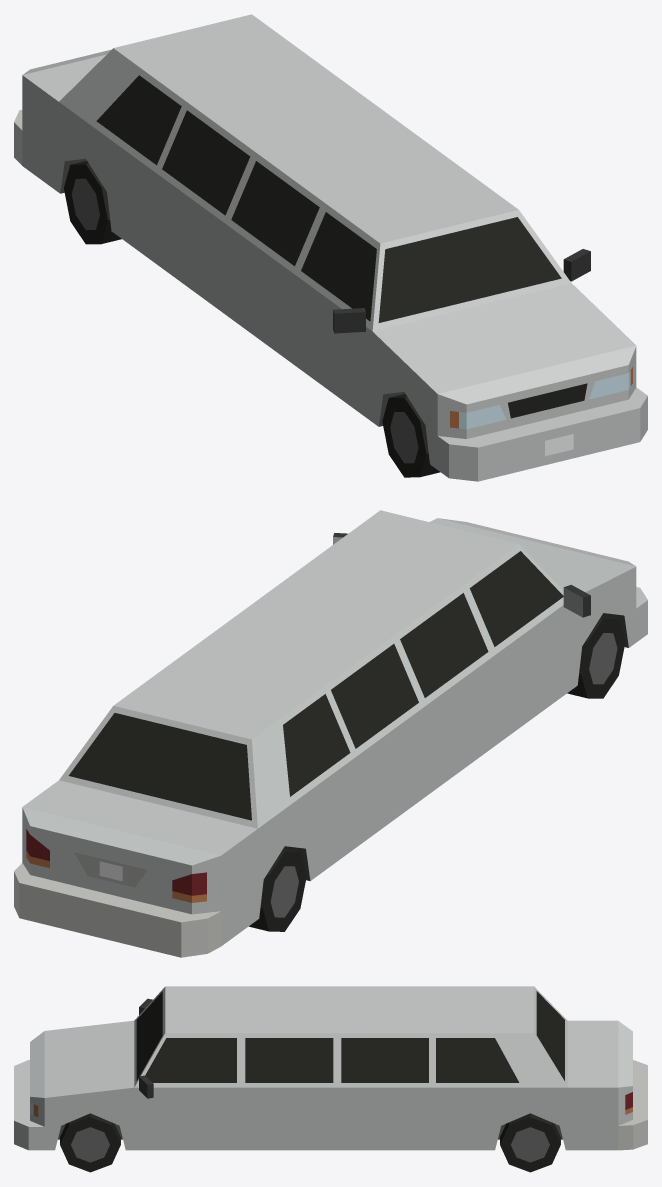
The model's file is Veh_Limousine.obj.
3 views of the same model, one above another, from view 1: azimuth 30°, elevation 25°; view 2: azimuth 150°, elevation 25°; view 3: azimuth 270°, elevation 25° (orthographic). The views are drawn at different scales.
Size of the model in its own units: 1.22 by 0.852 by 3.79.
